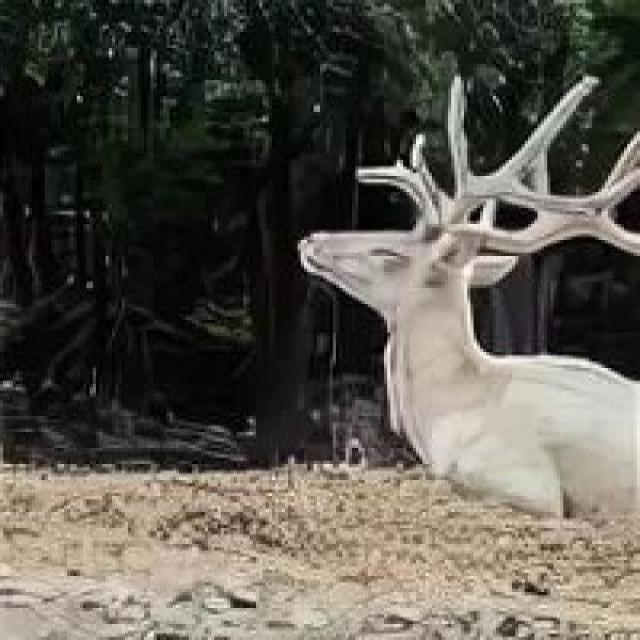deer: (178, 101, 626, 535)
